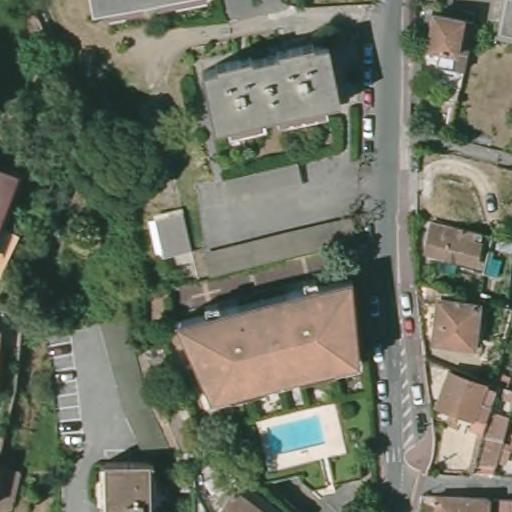pool: (258, 415, 330, 451)
